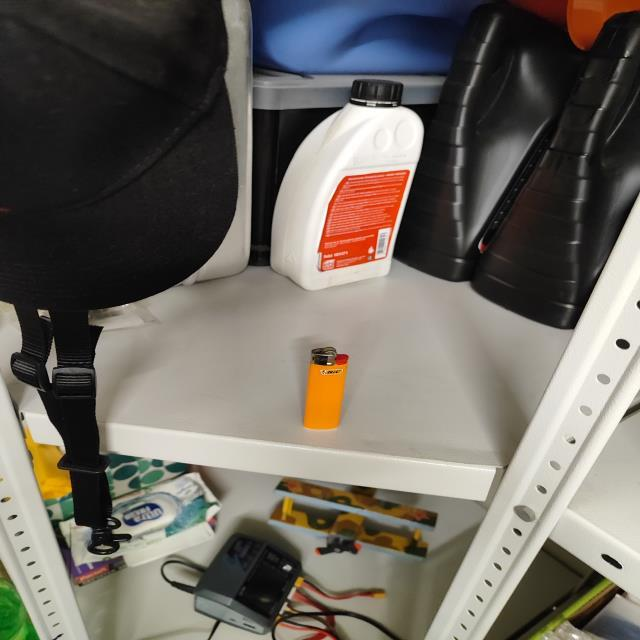lighter: (304, 346, 348, 428)
